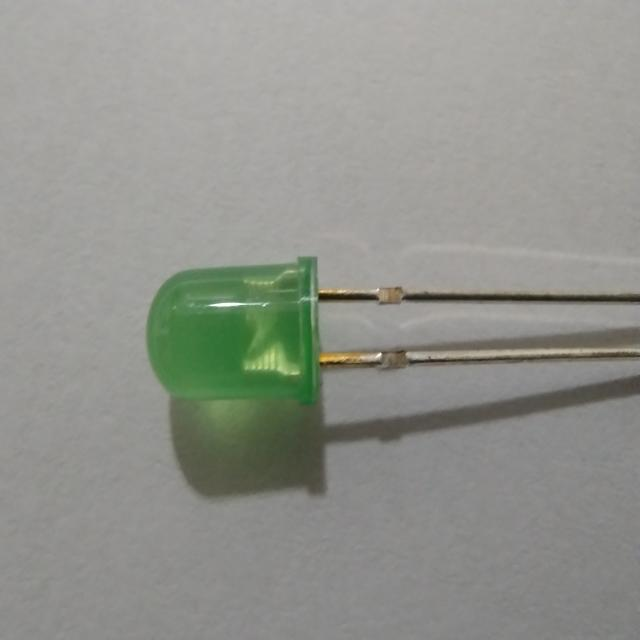green_led: (136, 246, 334, 422)
